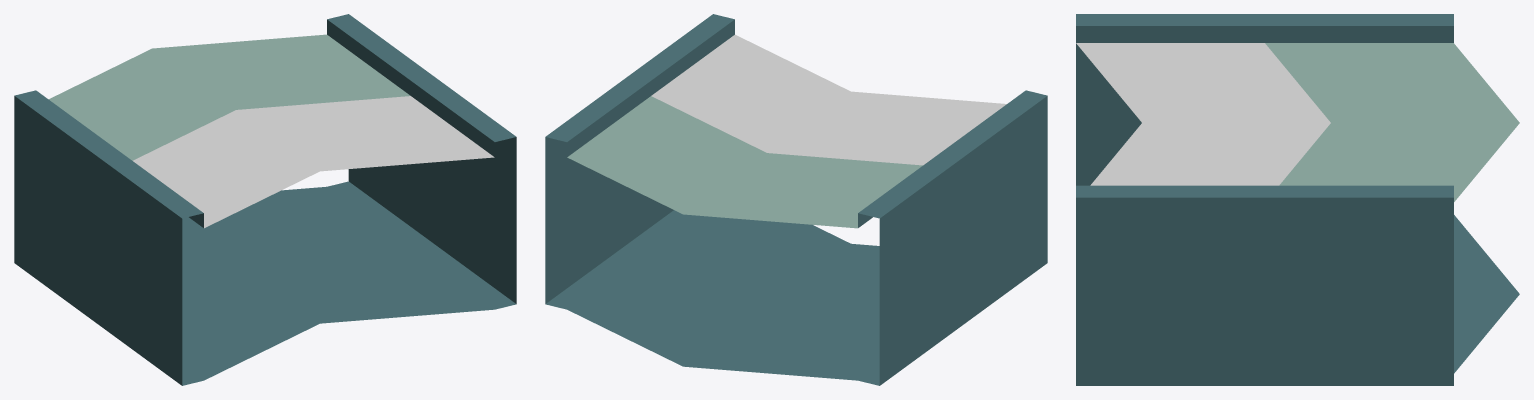
Rendered from PlatformTek.fbx.
3 views of the same model, side by side, from view 1: azimuth 30°, elevation 25°; view 2: azimuth 150°, elevation 25°; view 3: azimuth 270°, elevation 25° (orthographic). The views are drawn at different scales.
Visible parts, largest first — view 1: Platform; view 2: Platform; view 3: Platform.
Part boxes in pixels (x1,y1,x2,y2): Platform: [14, 14, 516, 385]; Platform: [545, 14, 1047, 385]; Platform: [1076, 14, 1519, 385].
Bounding box in the file's own units: 460 × 220 × 470.
